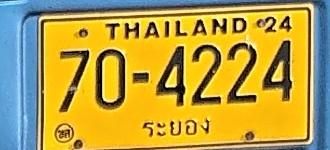0: (95, 48, 125, 110)
2: (191, 44, 221, 106), (226, 42, 256, 103)
4: (262, 39, 292, 102), (156, 45, 186, 106)
7: (59, 49, 89, 112)
RYG: (140, 115, 216, 139)
